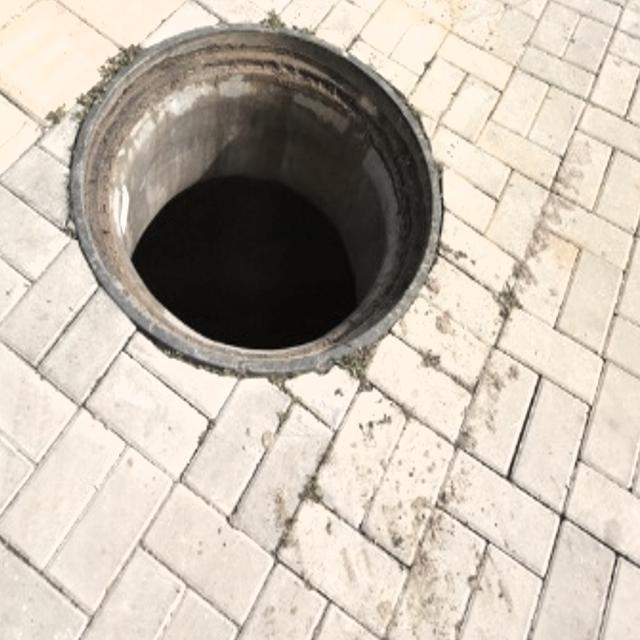lose: (66, 21, 442, 378)
